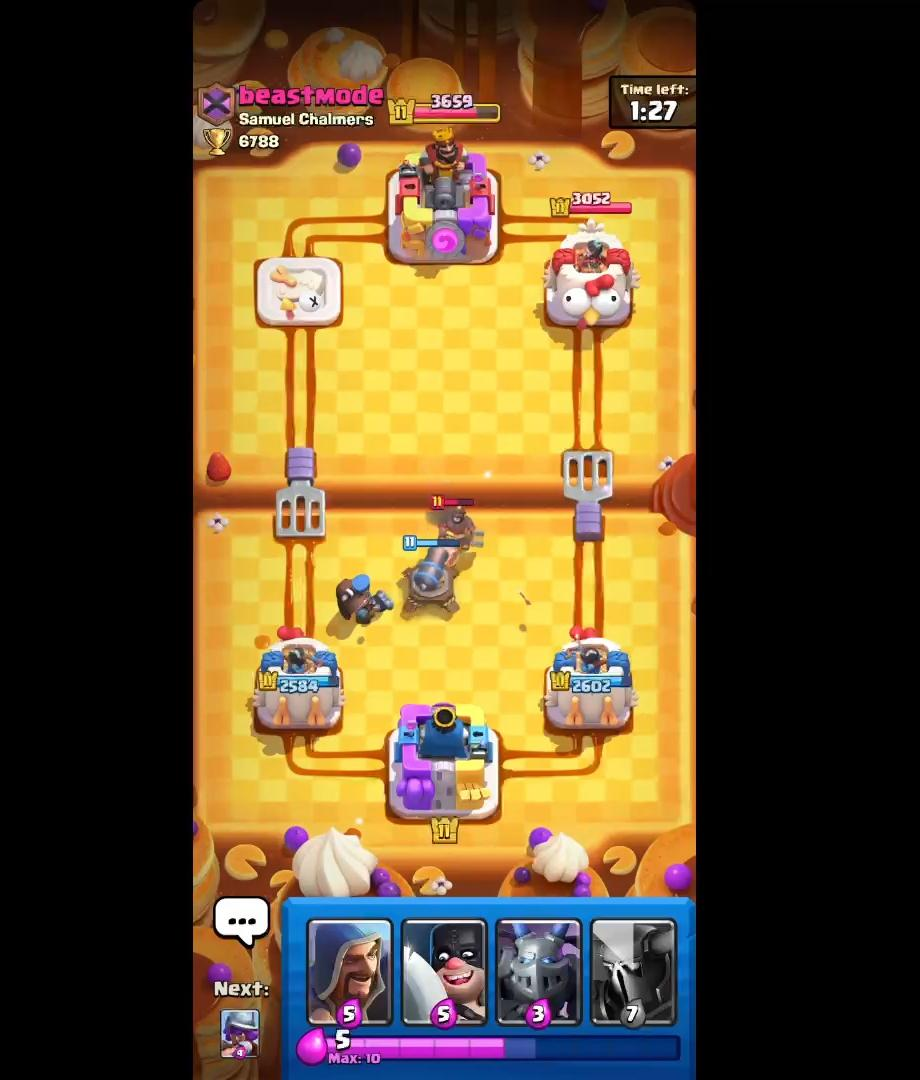Hog Rider: (426, 483, 483, 562)
